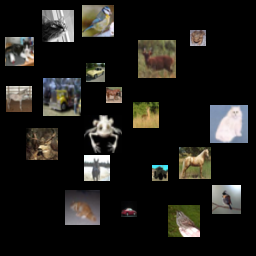airplane: (94, 216, 126, 248), (209, 181, 228, 200)
automobile: (170, 56, 202, 88), (210, 121, 239, 150), (199, 215, 225, 241)
bird: (3, 83, 19, 99), (47, 136, 63, 152)
cat: (130, 104, 162, 136), (34, 29, 56, 51), (109, 49, 131, 71)
deer: (97, 175, 135, 213), (149, 49, 168, 68), (3, 199, 19, 215)
dog: (142, 159, 174, 191)
frog: (81, 136, 116, 171), (65, 84, 87, 106), (49, 176, 68, 195)
ship: (3, 29, 32, 58)
